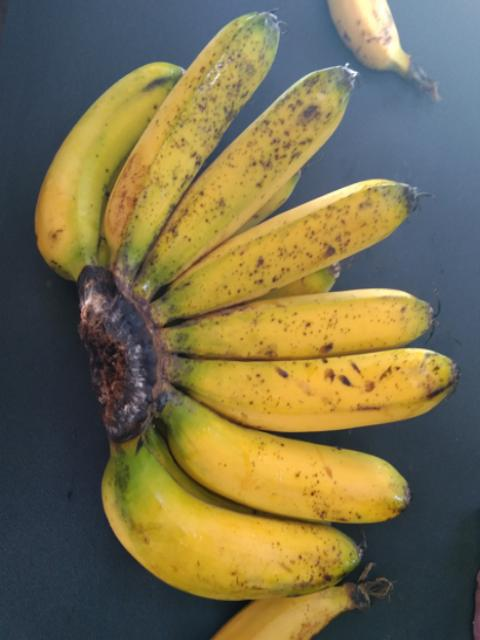ripe: (89, 14, 279, 274), (148, 73, 365, 279), (162, 363, 409, 524), (140, 173, 420, 314), (88, 471, 356, 610), (21, 44, 158, 290), (148, 336, 468, 431), (176, 268, 442, 358)
